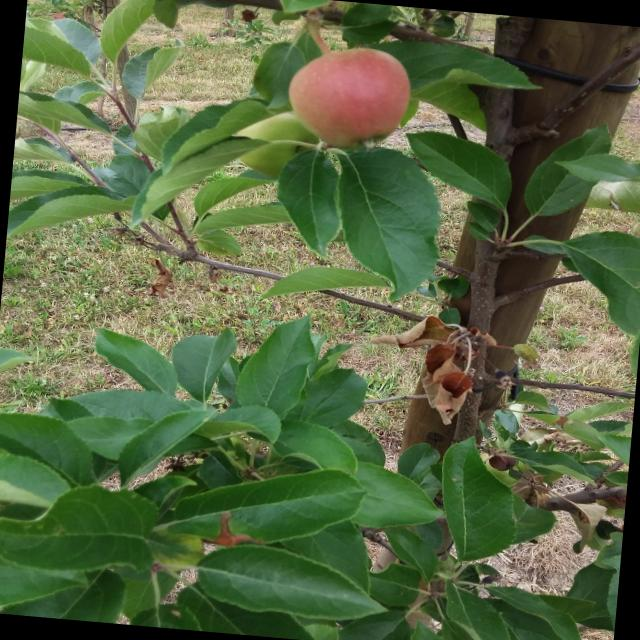-FireBlight-: (372, 308, 484, 414)
